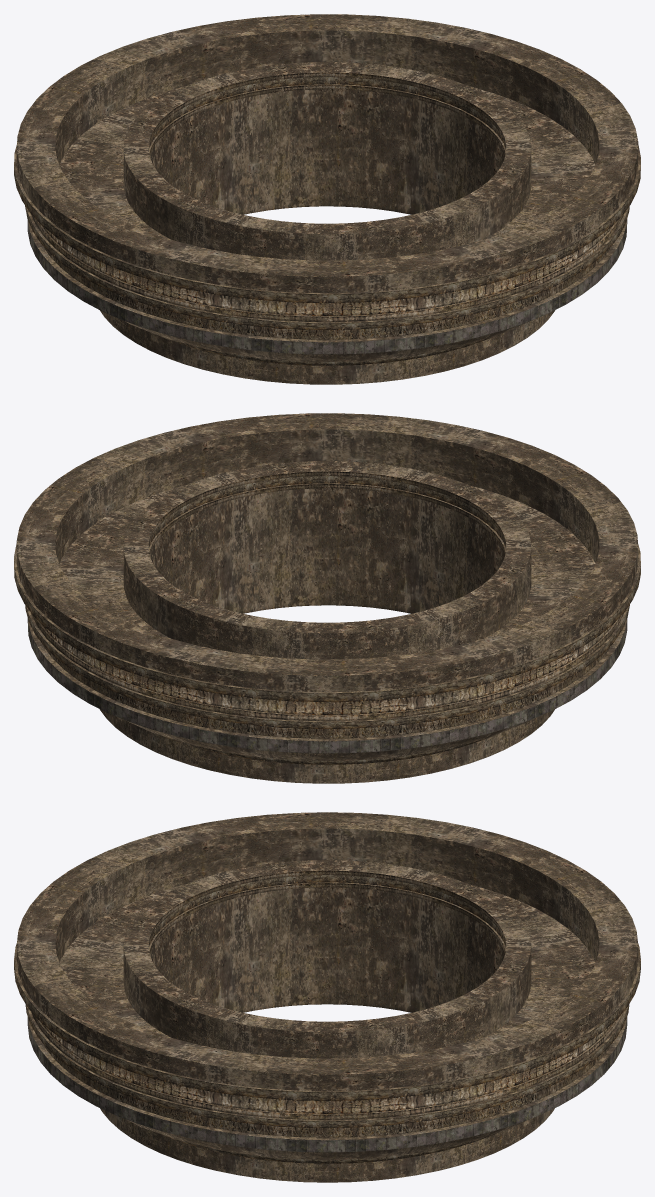
The model's file is materials_5_floor_donut_5.fbx.
3 renders of one model, top to bottom at view 1: azimuth 30°, elevation 25°; view 2: azimuth 150°, elevation 25°; view 3: azimuth 270°, elevation 25°, orthographic.
Visible parts, largest first — view 1: materials_5_floor_donut_5; view 2: materials_5_floor_donut_5; view 3: materials_5_floor_donut_5.
Boxes of the visible parts, <box> form: materials_5_floor_donut_5: <box>14,14,640,384</box>; materials_5_floor_donut_5: <box>14,413,640,783</box>; materials_5_floor_donut_5: <box>14,812,640,1182</box>.
Size of the model in its own units: 572 by 141 by 572.
